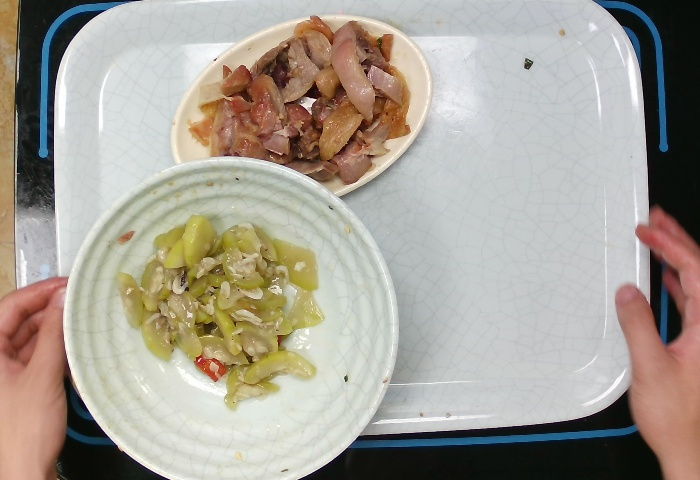JYsf-Da_Tang_Wan: (58, 151, 405, 480)
JYsf-Tuo_Yuan_Wan: (164, 9, 437, 202)
